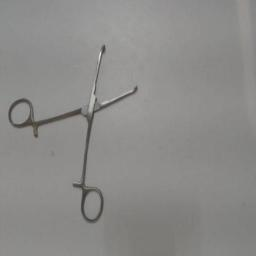Allis Tissue Forceps: (6, 35, 144, 227)
